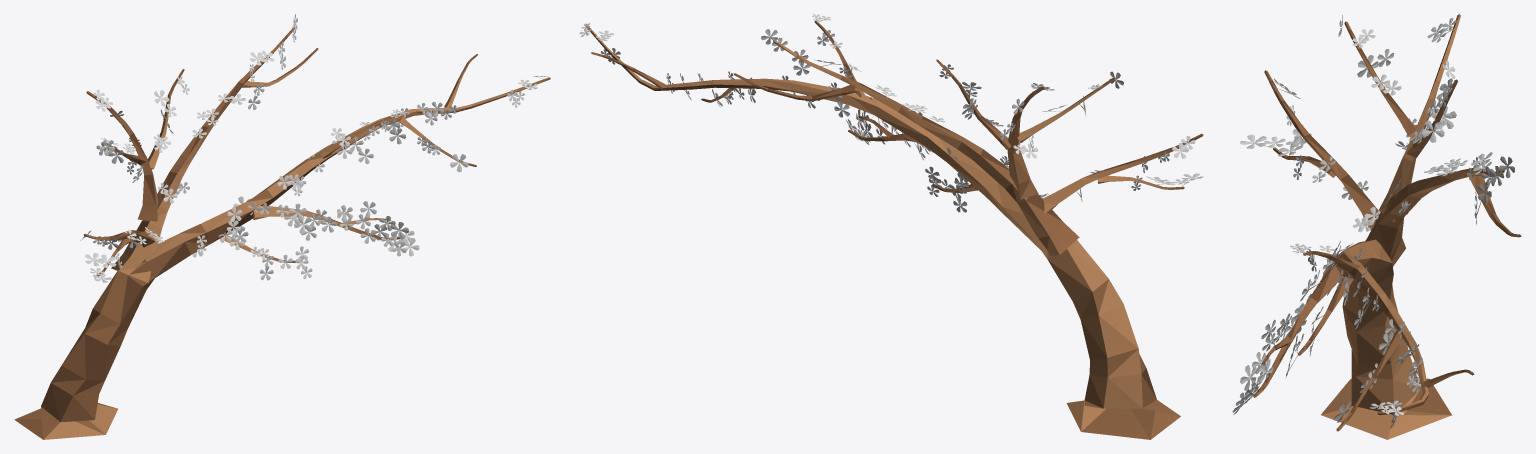
File: 01_foreground_blossom_tree.obj
3 views of the same model, side by side, from view 1: azimuth 30°, elevation 25°; view 2: azimuth 150°, elevation 25°; view 3: azimuth 270°, elevation 25° (orthographic). The views are drawn at different scales.
Parts seen in each view (by area): view 1: Tree_Trunk_Branches, Tree_Blossoms; view 2: Tree_Trunk_Branches, Tree_Blossoms; view 3: Tree_Trunk_Branches, Tree_Blossoms.
Part boxes in pixels (bbox=[...]): Tree_Trunk_Branches: bbox=[14, 27, 550, 439]; Tree_Blossoms: bbox=[80, 14, 548, 282]; Tree_Trunk_Branches: bbox=[585, 20, 1203, 439]; Tree_Blossoms: bbox=[579, 14, 1203, 212]; Tree_Trunk_Branches: bbox=[1253, 14, 1521, 439]; Tree_Blossoms: bbox=[1232, 15, 1514, 428].
Size of the model in its own units: 6.1 by 3.47 by 2.09.
